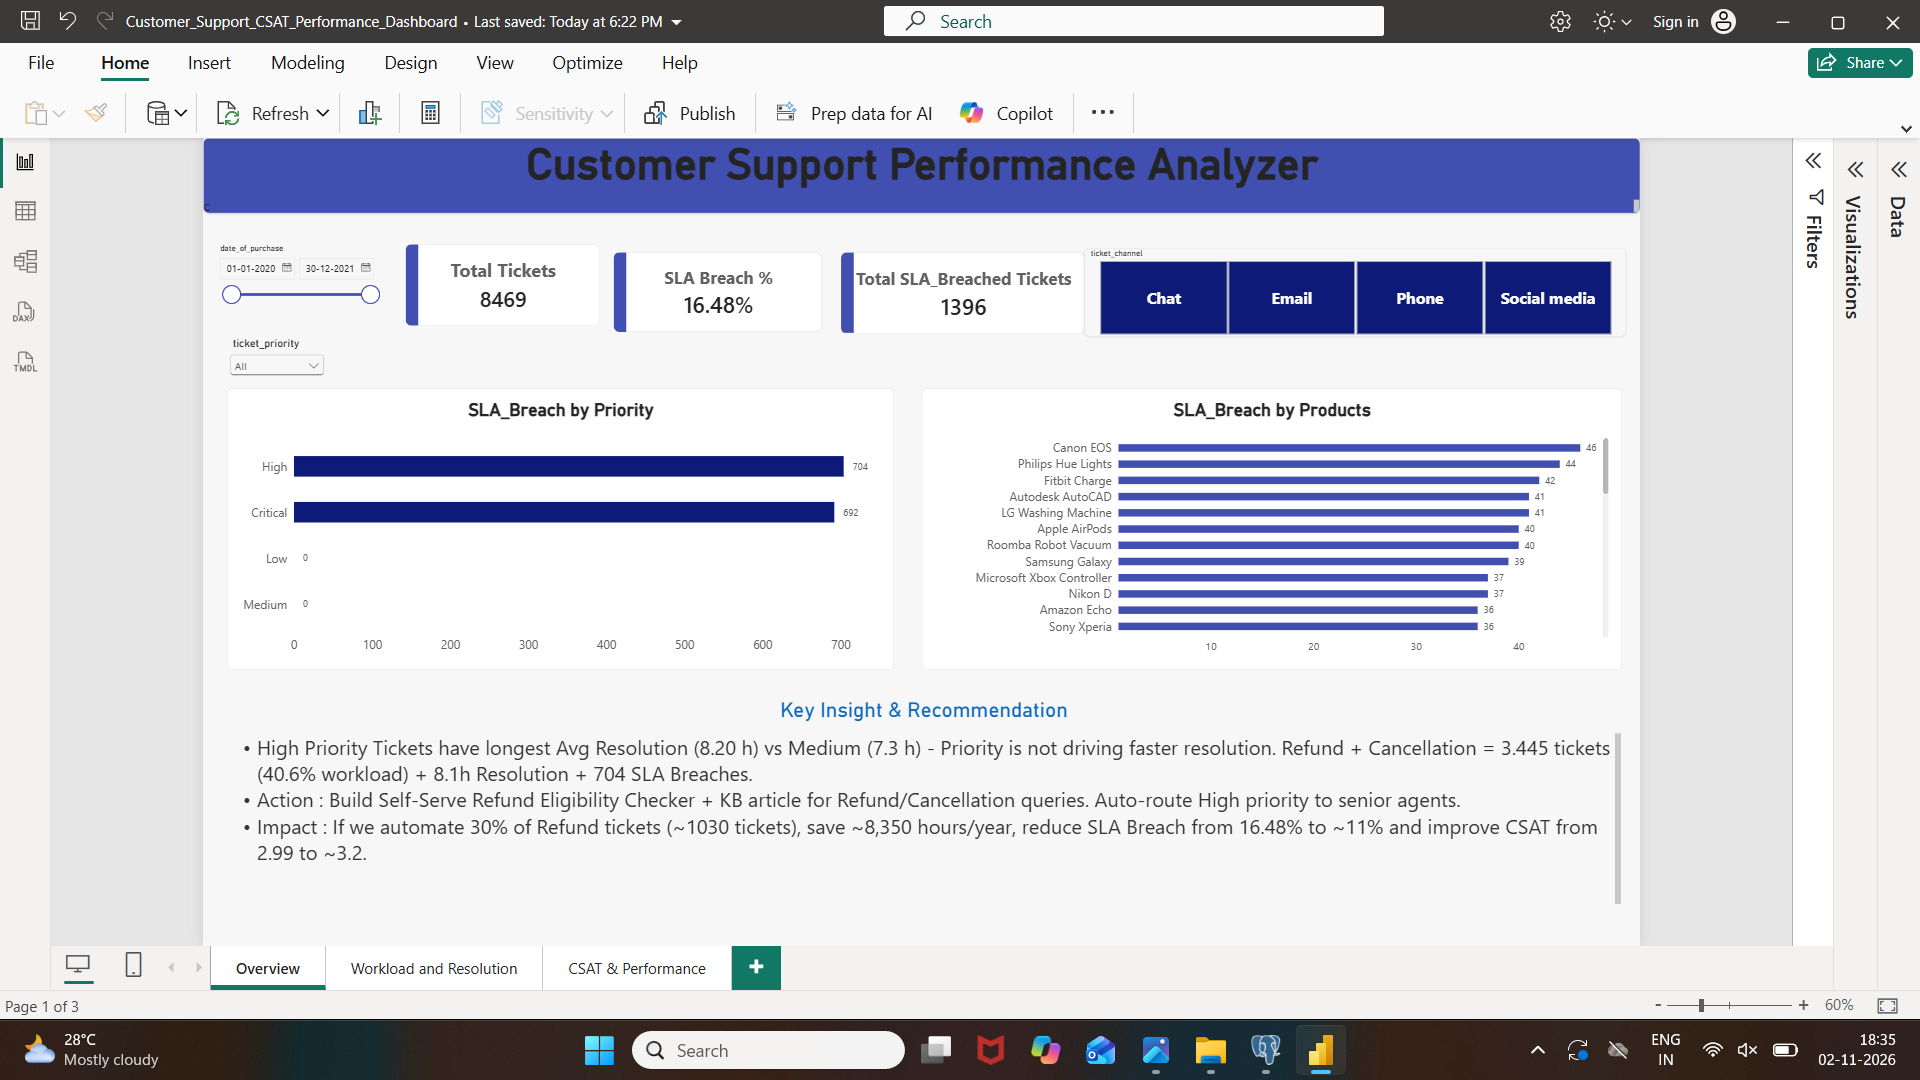

What the dashboard file says about the page in this screenshot:
{"tool":"powerbi","page":{"name":"Overview","canvas":[1920,1080],"ordinal":0},"visuals":[{"type":"cardVisual","fields":{"Data":["Sum(public support_tickets.sla_breach)"]},"box":[851.2,205.8,326.2,109.9],"z":0},{"type":"cardVisual","fields":{"Data":["Count(public support_tickets.ticket_id)"]},"box":[277.3,212.8,259.9,109.9],"z":1000},{"type":"cardVisual","fields":{"Data":["public support_tickets.Breach %"]},"box":[552.9,207.6,280.8,108.1],"z":2000},{"type":"barChart","title":"SLA_Breach by Priority","fields":{"Category":["public support_tickets.ticket_priority"],"Y":["Sum(public support_tickets.sla_breach)"]},"box":[15.7,387.2,891.3,376.7],"z":3000},{"type":"barChart","title":"SLA_Breach by Products","fields":{"Category":["public support_tickets.product_purchased"],"Y":["Sum(public support_tickets.sla_breach)"]},"box":[959.3,387.2,934.9,376.7],"z":4000},{"type":"textbox","title":"Customer Support Performance Analyzer","box":[0,0,1920,101],"z":6000},{"type":"textbox","box":[100.2,100.2,127.1,39.4],"z":8000},{"type":"slicer","fields":{"Values":["public support_tickets.date_of_purchase"]},"box":[38.4,216.3,225,99.4],"z":8001},{"type":"slicer","fields":{"Values":["public support_tickets.ticket_priority"]},"box":[15.7,336.6,134.3,68],"z":8002},{"type":"slicer","fields":{"Values":["public support_tickets.ticket_channel"]},"box":[1177.3,197.1,723.8,118.6],"z":8003},{"type":"textbox","title":"Key Insight & Recommendation","box":[15.7,793.6,1686.6,265.1],"z":8004}]}

Visuals, with their boxes on the page's 1920x1080 design canvas (x1, y1, x2, y2). These are canvas units, not pixel positions in the 1920x1080 screenshot, which may show the page scaled, cropped or inside an application window:
cardVisual - Sum(public support_tickets.sla_breach): (x1=851, y1=206, x2=1177, y2=316)
cardVisual - Count(public support_tickets.ticket_id): (x1=277, y1=213, x2=537, y2=323)
cardVisual - public support_tickets.Breach %: (x1=553, y1=208, x2=834, y2=316)
"SLA_Breach by Priority" barChart: (x1=16, y1=387, x2=907, y2=764)
"SLA_Breach by Products" barChart: (x1=959, y1=387, x2=1894, y2=764)
"Customer Support Performance Analyzer" textbox: (x1=0, y1=0, x2=1920, y2=101)
textbox: (x1=100, y1=100, x2=227, y2=140)
slicer - public support_tickets.date_of_purchase: (x1=38, y1=216, x2=263, y2=316)
slicer - public support_tickets.ticket_priority: (x1=16, y1=337, x2=150, y2=405)
slicer - public support_tickets.ticket_channel: (x1=1177, y1=197, x2=1901, y2=316)
"Key Insight & Recommendation" textbox: (x1=16, y1=794, x2=1702, y2=1059)
